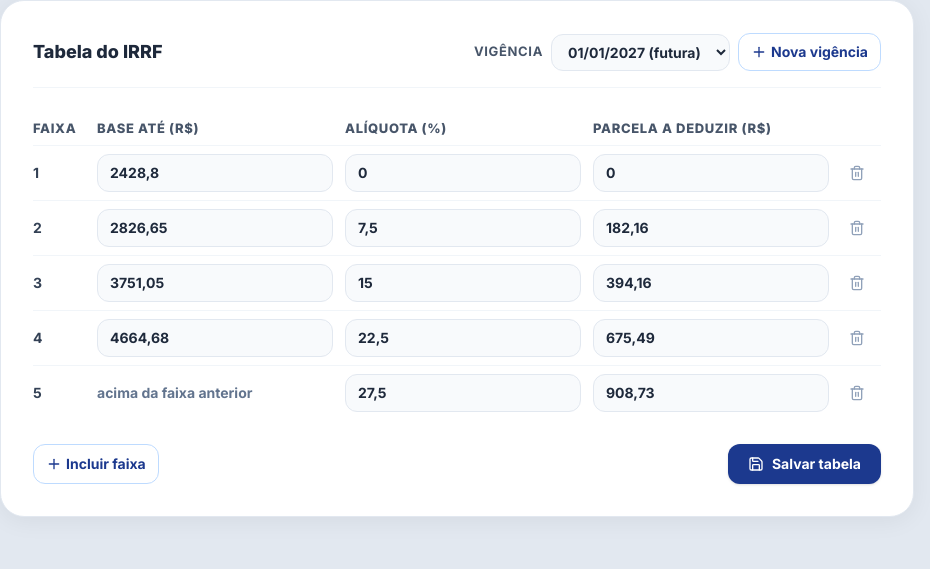
Test: IrrfFaixasEditor › faixa inválida mostra o erro e bloqueia salvar
Replace the text in the field named "Limite da faixa 3" with "2000". click: (215, 283)
box: [97,264,333,302]
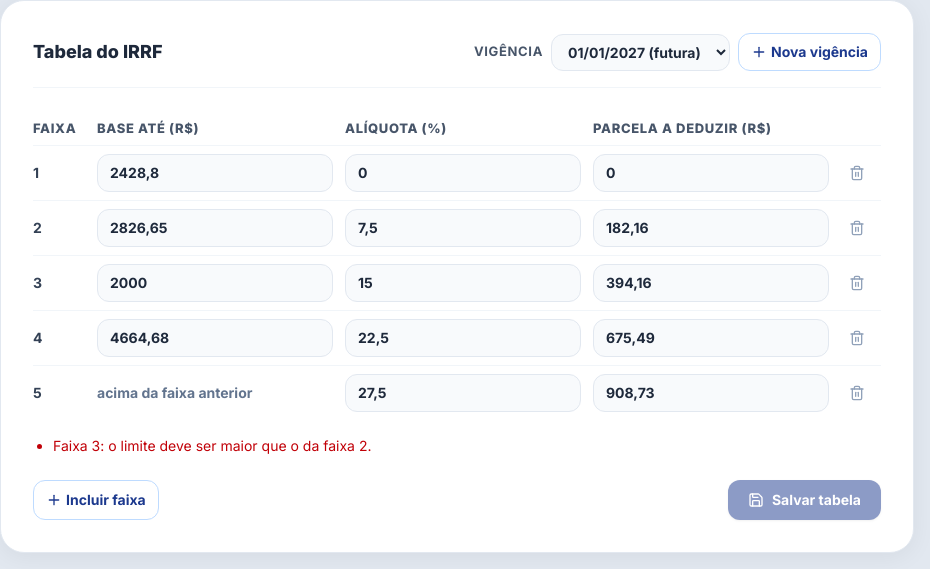
Check: the message reads "Faixa 3: o limite deve ser maior que o da faixa 2.", box [53,437,372,454]
Check: the button "Salvar tabela" is disabled, box [728,480,881,520]
